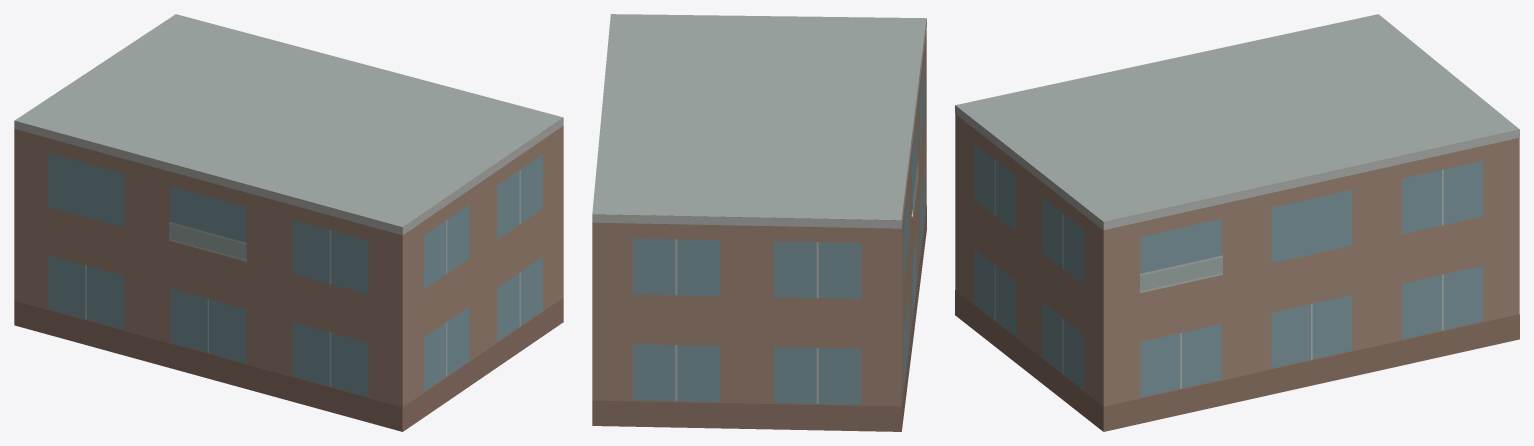
Rendered from survey-upis-32515275.glb.
The picture shows the model from 3 angles, left to right: view 1: azimuth 30°, elevation 25°; view 2: azimuth 150°, elevation 25°; view 3: azimuth 270°, elevation 25°; orthographic projection. The views are drawn at different scales.
Parts seen in each view (by area): view 1: survey-upis-32515275.tmp; view 2: survey-upis-32515275.tmp; view 3: survey-upis-32515275.tmp.
Part boxes in pixels (x1,y1,x2,y2): survey-upis-32515275.tmp: (14, 14, 563, 431); survey-upis-32515275.tmp: (592, 14, 926, 431); survey-upis-32515275.tmp: (955, 14, 1519, 431).
Bounding box in the file's own units: 12.96 × 6.1 × 14.87.
